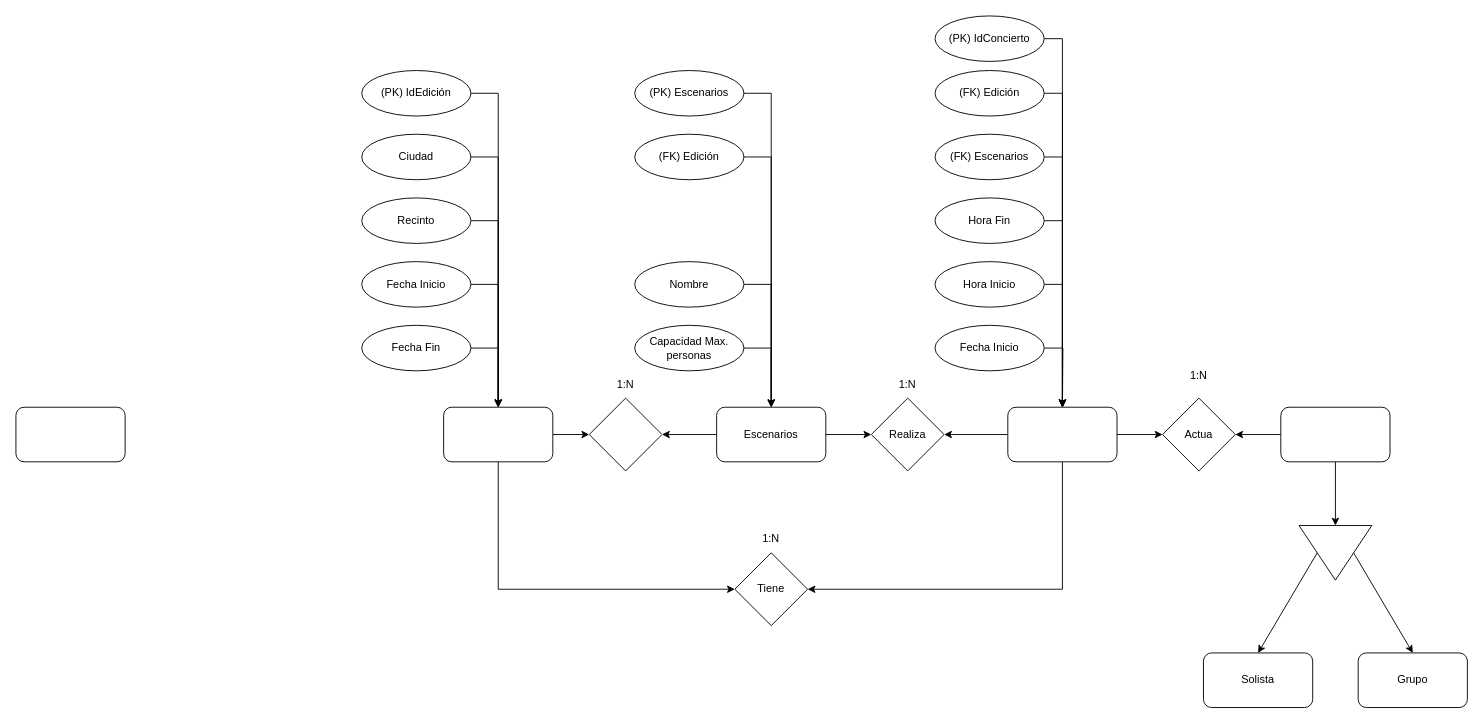
Image size: 1483x723. Some labels were removed from this diagram. The centre of each missing label's shape, as x and y in pixels:
"Artista" belongs at point 1335,434.
"Artistas" belongs at point 70,434.
"Concierto" belongs at point 1062,434.
"Edición" belongs at point 498,434.
"ES" belongs at point 1335,552.
"Hay" belongs at point 625,434.
